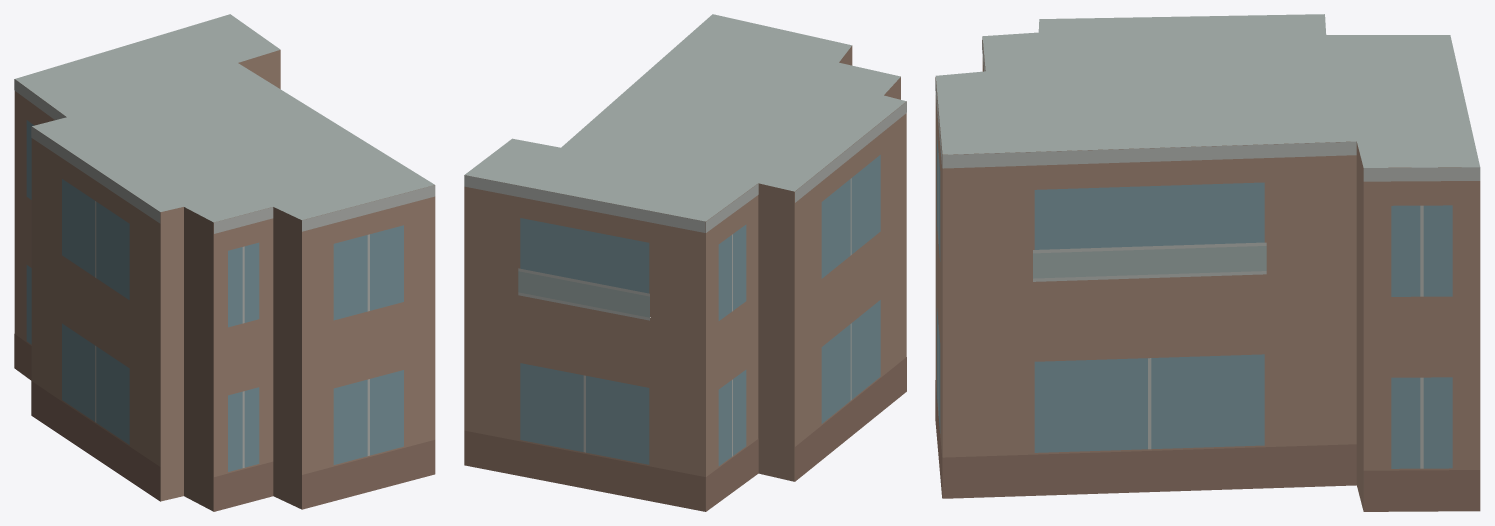
The model's file is survey-upis-32621956.glb.
3 views of the same model, side by side, from view 1: azimuth 30°, elevation 25°; view 2: azimuth 150°, elevation 25°; view 3: azimuth 270°, elevation 25° (orthographic). The views are drawn at different scales.
Parts seen in each view (by area): view 1: survey-upis-32621956.tmp; view 2: survey-upis-32621956.tmp; view 3: survey-upis-32621956.tmp.
Boxes of the visible parts, left/top/right/bottom form: survey-upis-32621956.tmp: left=14, top=14, right=435, bottom=511; survey-upis-32621956.tmp: left=464, top=14, right=906, bottom=511; survey-upis-32621956.tmp: left=935, top=14, right=1480, bottom=511.
Bounding box in the file's own units: 5.86 × 6.1 × 8.77.
